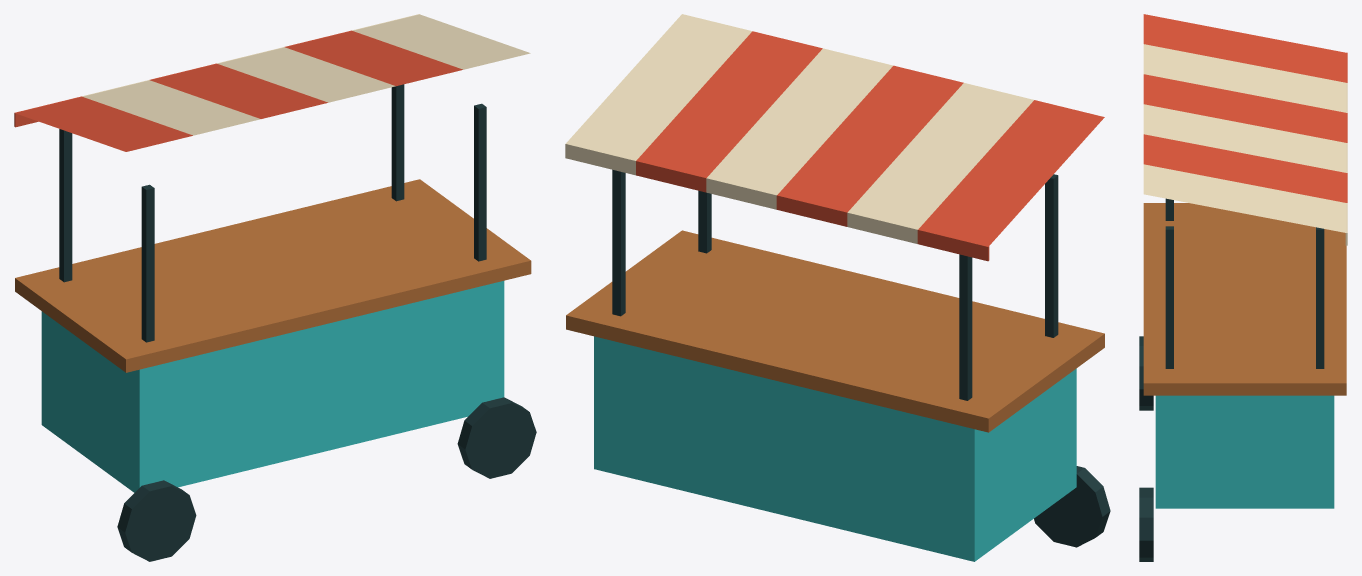
File: food_cart.fbx
3 renders of one model, left to right at view 1: azimuth 30°, elevation 25°; view 2: azimuth 150°, elevation 25°; view 3: azimuth 270°, elevation 25°, orthographic. The views are drawn at different scales.
Visible parts, largest first — view 1: food_cart; view 2: food_cart; view 3: food_cart.
Boxes of the visible parts, x1,y1,x2,y2 form: food_cart: (14, 14, 536, 561); food_cart: (565, 14, 1110, 561); food_cart: (1139, 14, 1347, 561).
Bounding box in the file's own units: 2.5 × 2.4 × 1.2.
